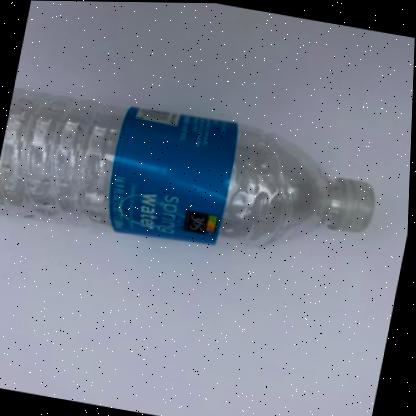Plastic: (0, 86, 376, 245)
